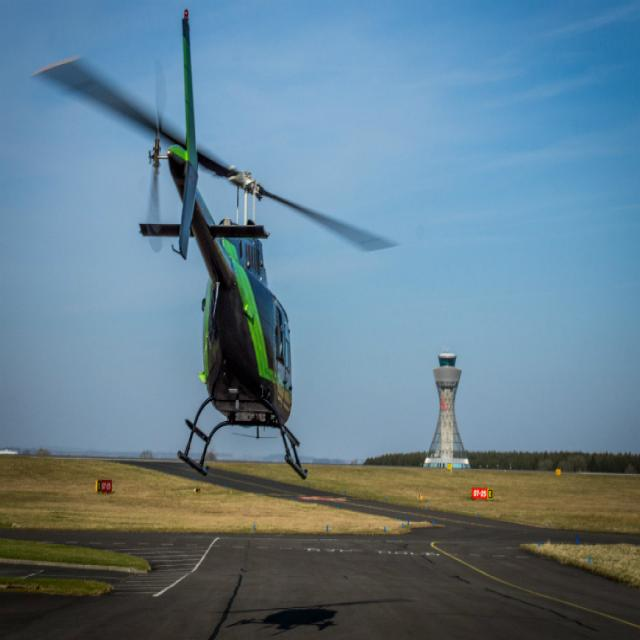helicopter: (35, 11, 397, 485)
